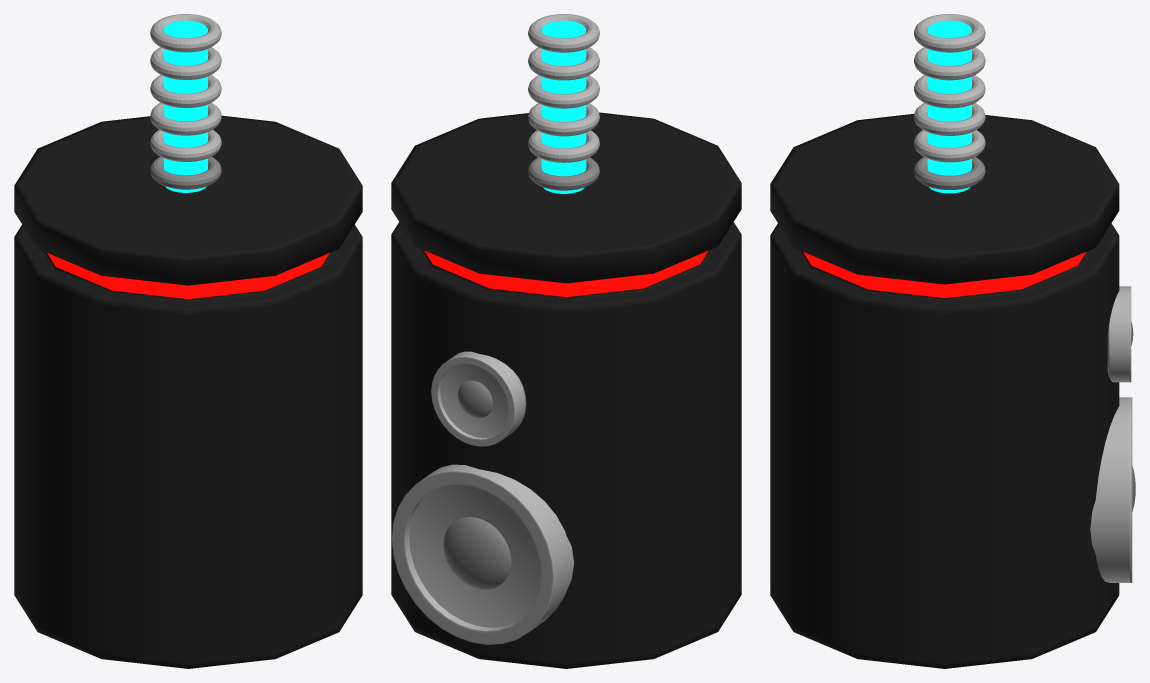
The model's file is Beacon-drawLvl5.fbx.
3 renders of one model, left to right at view 1: azimuth 30°, elevation 25°; view 2: azimuth 150°, elevation 25°; view 3: azimuth 270°, elevation 25°, orthographic.
Parts seen in each view (by area): view 1: Cylinder, Cylinder.005, Torus, Torus.001, Torus.002, Torus.003, Torus.005, Torus.004; view 2: Cylinder, Cylinder.003, Cylinder.004, Cylinder.005, Sphere, Torus, Torus.002, Torus.001, Torus.003, Torus.005, Torus.004, Sphere.001; view 3: Cylinder, Cylinder.003, Cylinder.005, Cylinder.004, Torus, Torus.001, Torus.002, Torus.005, Torus.003, Torus.004.
Part boxes in pixels (x1=…): Cylinder: x1=14, y1=115, x2=362, y2=668; Cylinder.005: x1=164, y1=20, x2=207, y2=192; Torus: x1=150, y1=14, x2=221, y2=52; Torus.001: x1=150, y1=47, x2=221, y2=79; Torus.002: x1=150, y1=75, x2=221, y2=107; Torus.003: x1=150, y1=102, x2=221, y2=135; Torus.005: x1=150, y1=156, x2=221, y2=189; Torus.004: x1=150, y1=129, x2=221, y2=161; Cylinder: x1=391, y1=112, x2=741, y2=668; Cylinder.003: x1=391, y1=464, x2=574, y2=644; Cylinder.004: x1=431, y1=351, x2=526, y2=446; Cylinder.005: x1=541, y1=20, x2=586, y2=193; Sphere: x1=443, y1=517, x2=511, y2=589; Torus: x1=528, y1=14, x2=599, y2=52; Torus.002: x1=528, y1=75, x2=599, y2=108; Torus.001: x1=528, y1=47, x2=599, y2=80; Torus.003: x1=528, y1=103, x2=599, y2=136; Torus.005: x1=528, y1=157, x2=599, y2=190; Torus.004: x1=528, y1=130, x2=599, y2=162; Sphere.001: x1=458, y1=380, x2=492, y2=418; Cylinder: x1=770, y1=114, x2=1119, y2=668; Cylinder.003: x1=1090, y1=397, x2=1132, y2=582; Cylinder.005: x1=927, y1=20, x2=971, y2=193; Cylinder.004: x1=1107, y1=286, x2=1131, y2=382; Torus: x1=914, y1=14, x2=985, y2=52; Torus.001: x1=914, y1=47, x2=985, y2=80; Torus.002: x1=914, y1=75, x2=985, y2=108; Torus.005: x1=914, y1=157, x2=985, y2=189; Torus.003: x1=914, y1=103, x2=985, y2=135; Torus.004: x1=914, y1=130, x2=985, y2=162.
Bounding box in the file's own units: 279 × 502 × 292.
